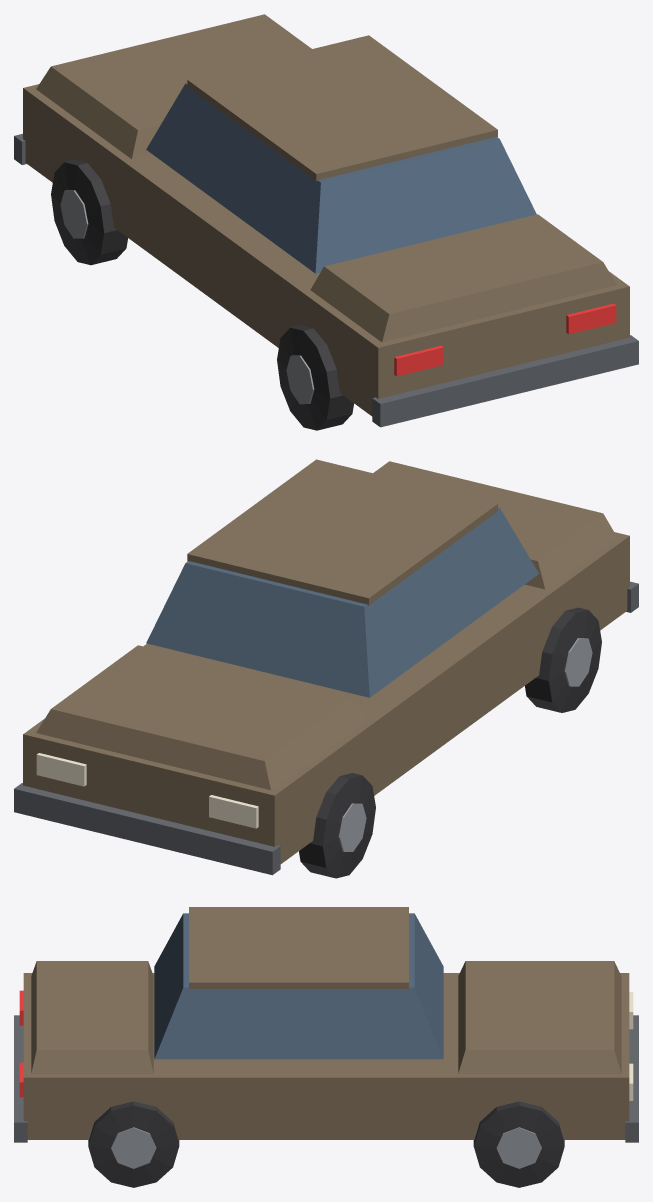
File: Car_deck.obj
3 renders of one model, top to bottom at view 1: azimuth 30°, elevation 25°; view 2: azimuth 150°, elevation 25°; view 3: azimuth 270°, elevation 25°, orthographic. The views are drawn at different scales.
Parts seen in each view (by area): view 1: Car_deck; view 2: Car_deck; view 3: Car_deck.
Boxes of the visible parts, left/top/right/bottom form: Car_deck: left=14, top=14, right=638, bottom=430; Car_deck: left=14, top=459, right=638, bottom=878; Car_deck: left=14, top=907, right=638, bottom=1187.
Bounding box in the file's own units: 2 × 1.5 × 4.54.
1 material, 1 textured.
